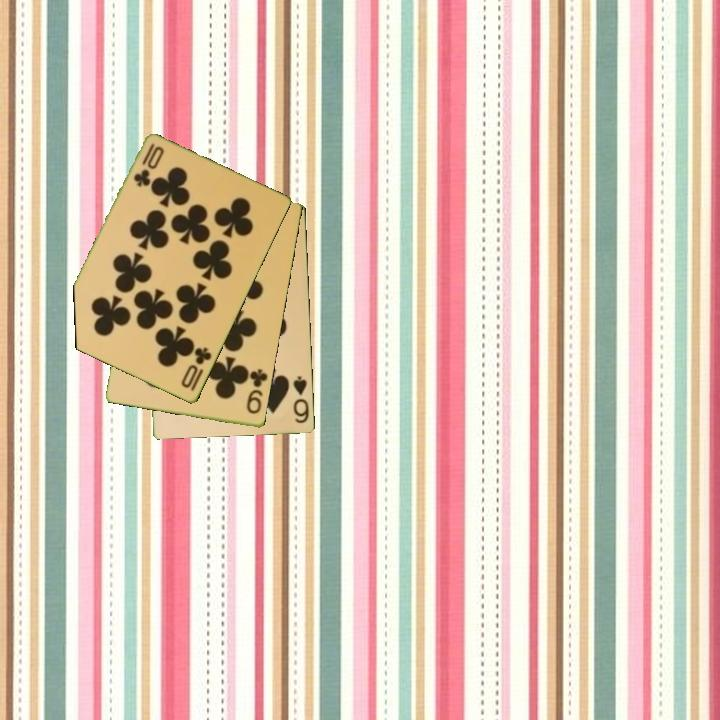10c: (178, 344, 215, 394), (130, 140, 158, 190)
6s: (290, 373, 312, 426)
9c: (243, 366, 271, 417)
